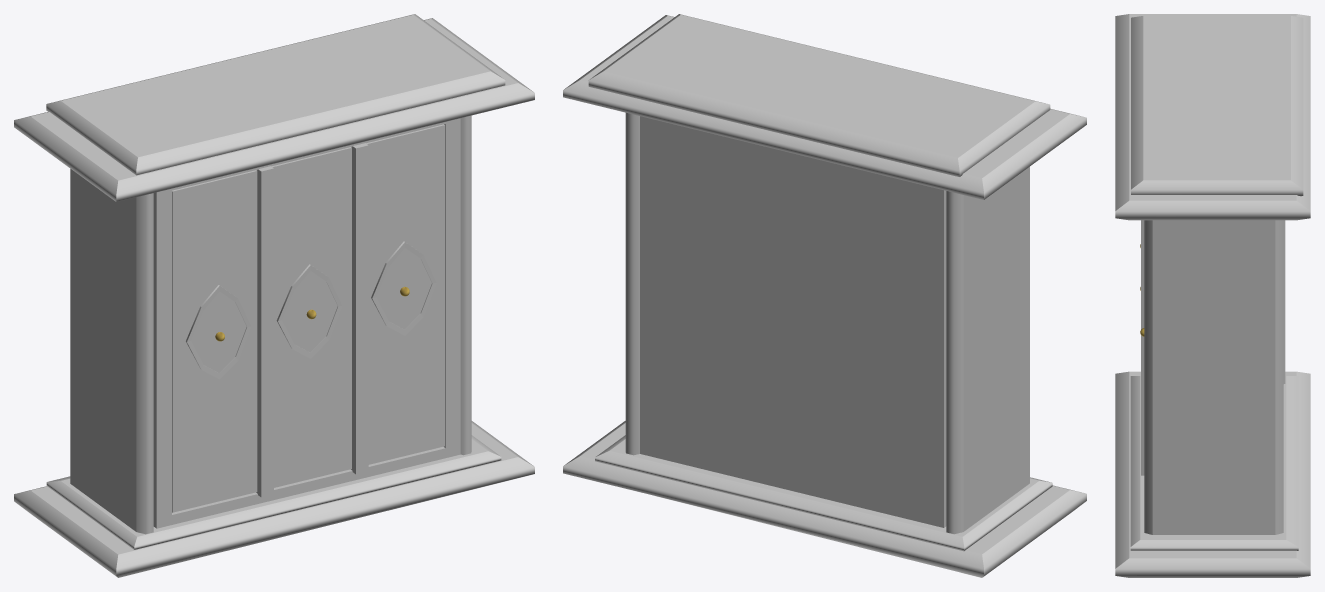
File: butlers wardrobe.fbx
The picture shows the model from 3 angles, left to right: view 1: azimuth 30°, elevation 25°; view 2: azimuth 150°, elevation 25°; view 3: azimuth 270°, elevation 25°; orthographic projection. The views are drawn at different scales.
Parts seen in each view (by area): view 1: pCube1144, pCube1141, pCube1146, pCube1157, pCube1158, pCube1139, pCube1140, pCube1143, pCube1156, pCube1149, pCube1147, pCube1155 (+3 smaller); view 2: pCube1139, pCube1144, pCube1141, pCube1140, pCube1143, pCube1156, pCube1155; view 3: pCube1155, pCube1144, pCube1140, pCube1143, pCube1156, pCube1149, pCube1141.
Boxes of the visible parts, x1,y1,x2,y2 form: pCube1144: [46, 14, 505, 175]; pCube1141: [70, 169, 153, 534]; pCube1146: [172, 170, 257, 512]; pCube1157: [271, 147, 351, 487]; pCube1158: [366, 124, 444, 464]; pCube1139: [153, 118, 460, 528]; pCube1140: [14, 421, 534, 577]; pCube1143: [14, 18, 534, 201]; pCube1156: [46, 435, 501, 549]; pCube1149: [351, 143, 368, 474]; pCube1147: [256, 166, 273, 497]; pCube1155: [460, 115, 471, 455]; pCube1139: [640, 116, 946, 527]; pCube1144: [588, 14, 1050, 176]; pCube1141: [946, 166, 1029, 534]; pCube1140: [563, 421, 1086, 577]; pCube1143: [563, 15, 1086, 199]; pCube1156: [595, 435, 1052, 551]; pCube1155: [625, 112, 639, 455]; pCube1155: [1144, 220, 1283, 534]; pCube1144: [1131, 16, 1303, 196]; pCube1140: [1115, 371, 1310, 577]; pCube1143: [1115, 14, 1310, 220]; pCube1156: [1130, 376, 1298, 550]; pCube1149: [1141, 220, 1144, 475]; pCube1141: [1283, 220, 1285, 383].
Size of the model in its own units: 427 by 398 by 181.
